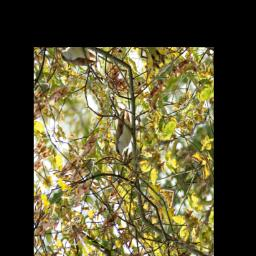Cuckoo: (99, 104, 145, 165)
